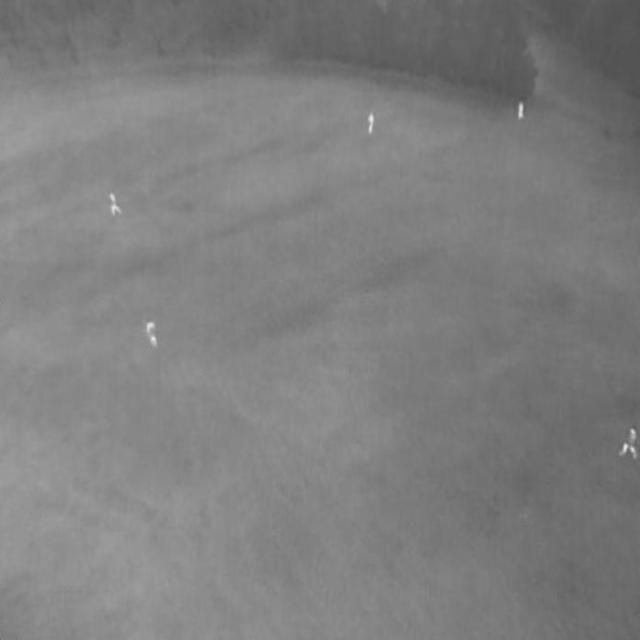person: (619, 425, 639, 461), (147, 321, 159, 351), (109, 193, 122, 217), (368, 112, 375, 135), (518, 100, 526, 120)
